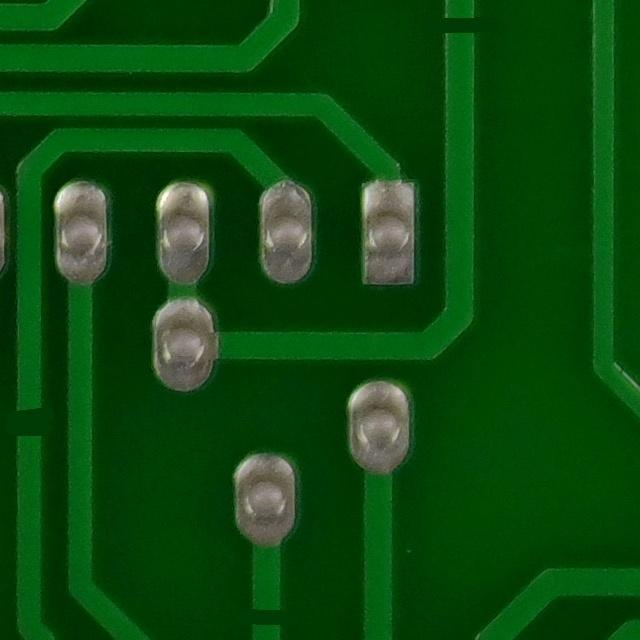open_circuit: (424, 0, 503, 57), (0, 396, 55, 454), (239, 593, 291, 640)
